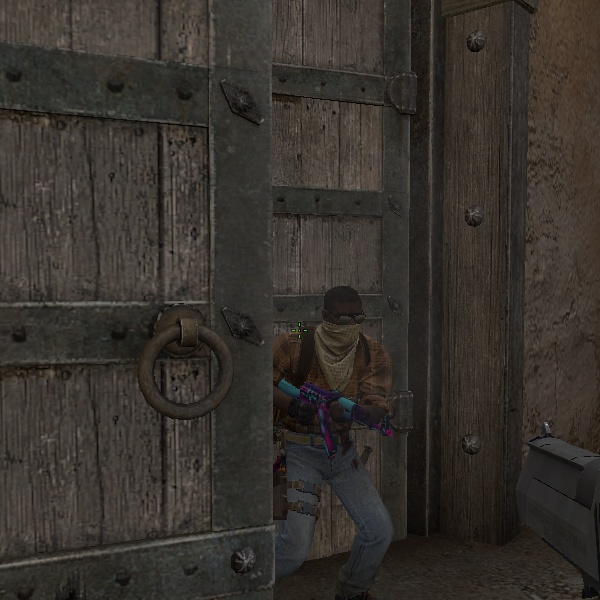t_body: (265, 276, 421, 600)
t_head: (308, 281, 374, 355)
